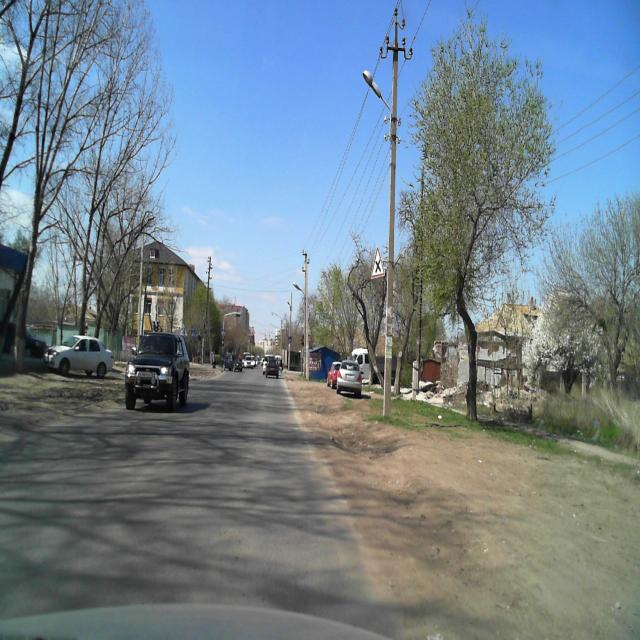road sign: (371, 245, 385, 279)
